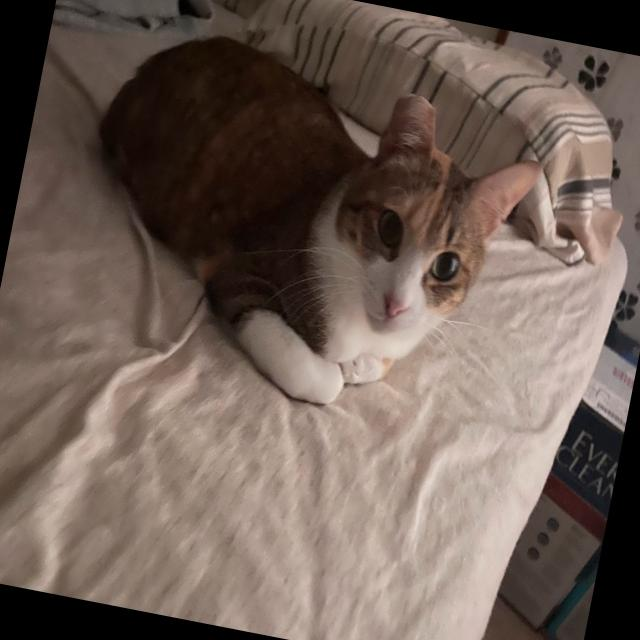cat2: (43, 12, 560, 441)
